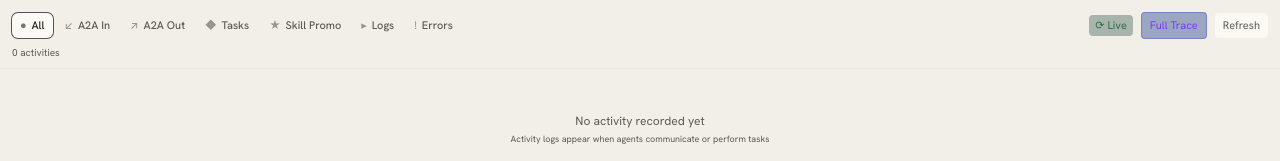
ActivityTab — #61 stage 3: ACTIVITY_LOGGED subscription › WS push respects the active filter — matching activity_type is rendered
Expected: the text "No activity recorded yet" is shown, top-left (575, 112), bottom-right (705, 128)
Click the button "◆ Tasks". click: [227, 25]
box: top-left (197, 13), bottom-right (257, 38)
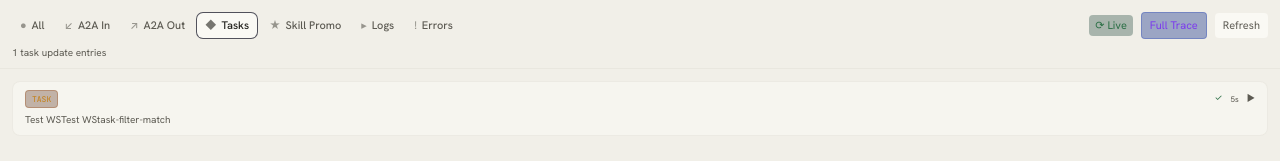
Now the text "task-filter-match" is shown, box top-left (25, 112), bottom-right (170, 126)
